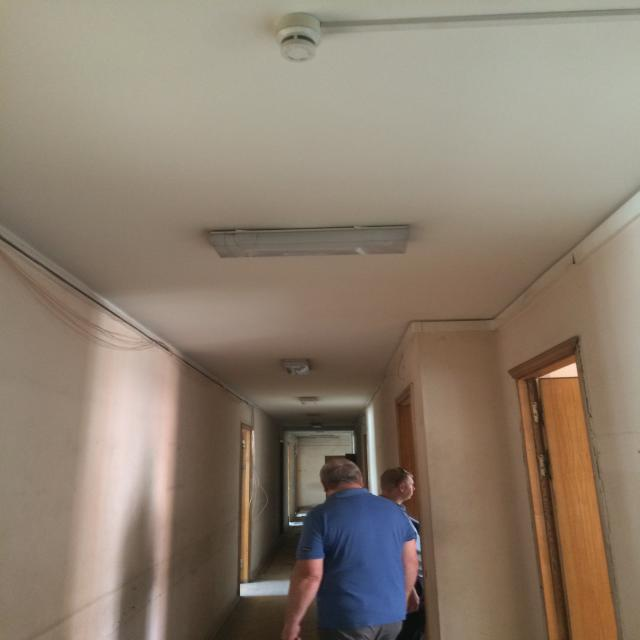NoHelmet: (317, 454, 368, 497), (378, 462, 419, 501)
